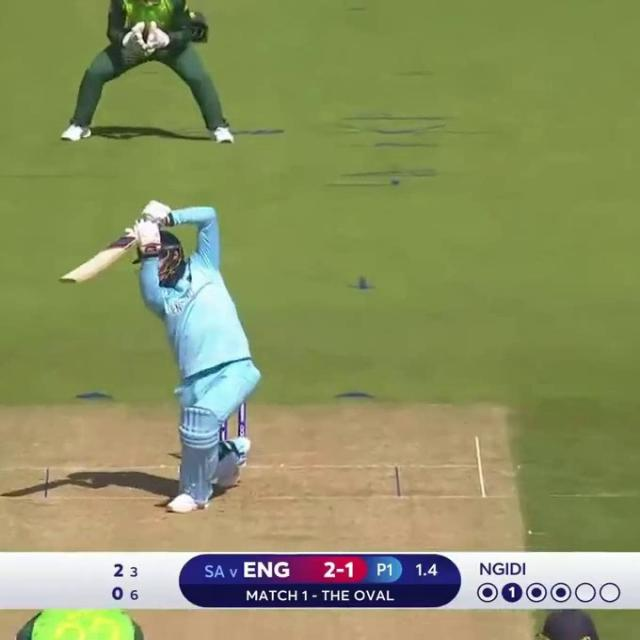bat: (59, 236, 134, 284)
toe: (57, 276, 78, 283)
